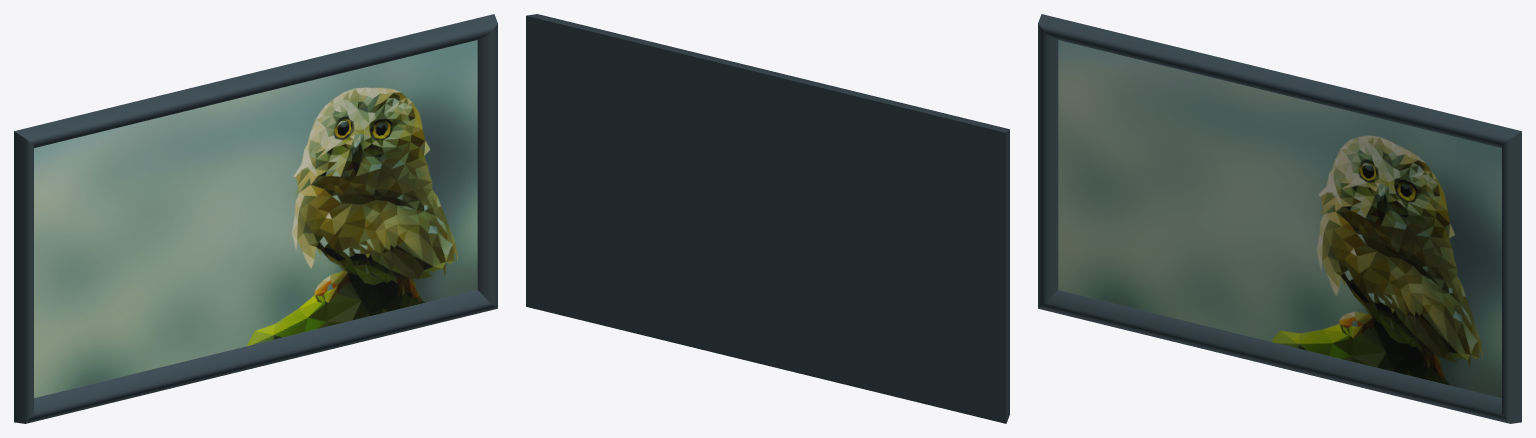
File: picture_018.fbx
3 views of the same model, side by side, from view 1: azimuth 30°, elevation 25°; view 2: azimuth 150°, elevation 25°; view 3: azimuth 330°, elevation 25° (orthographic).
Parts seen in each view (by area): view 1: picture_018; view 2: picture_018; view 3: picture_018.
Boxes of the visible parts, <box> form: picture_018: <box>14,14,497,423</box>; picture_018: <box>526,14,1009,423</box>; picture_018: <box>1038,14,1521,423</box>.
Size of the model in its own units: 137 by 3.71 by 79.31.
